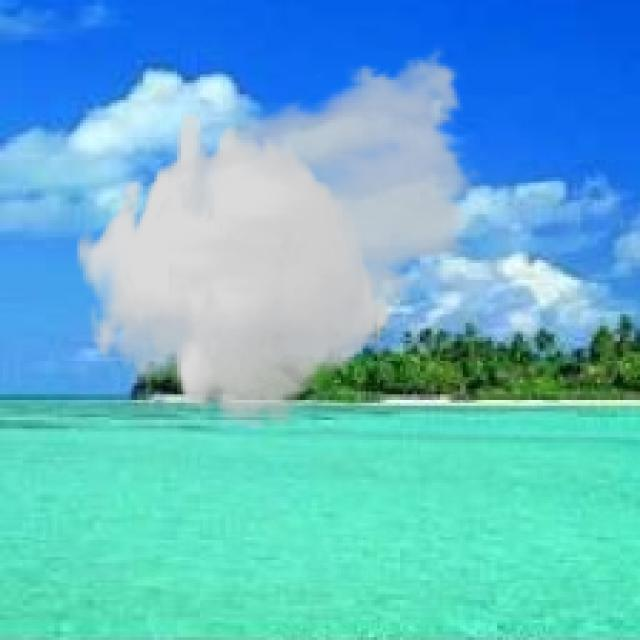smoke: (74, 40, 486, 429)
